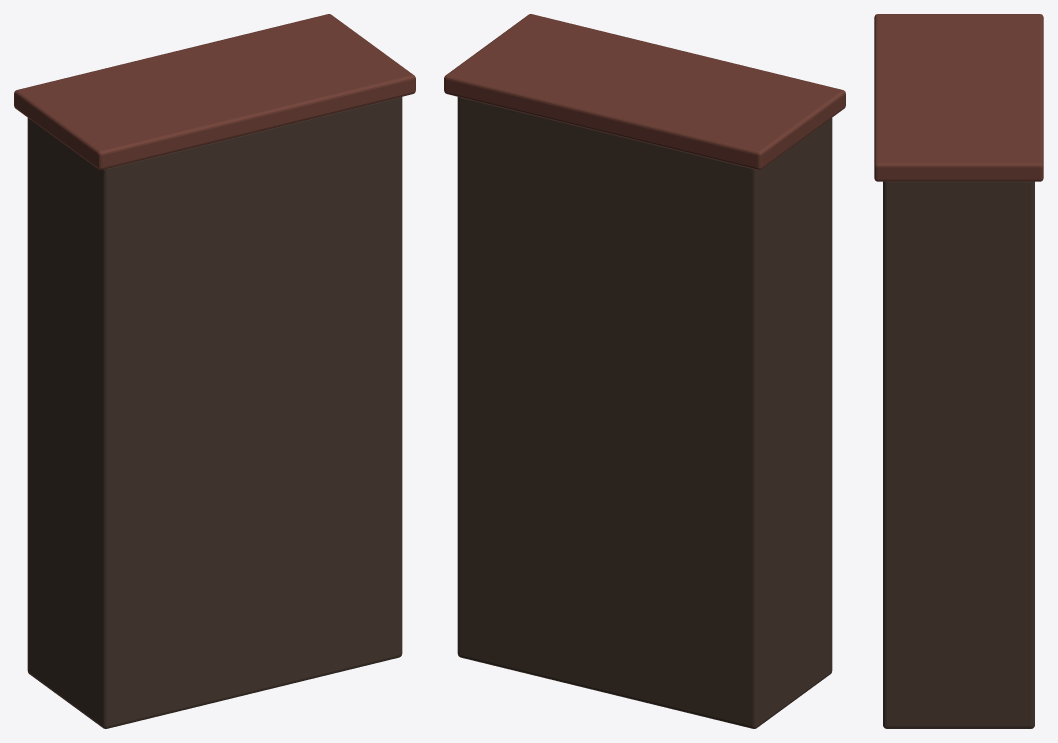
File: cabinet_specimen.glb
3 views of the same model, side by side, from view 1: azimuth 30°, elevation 25°; view 2: azimuth 150°, elevation 25°; view 3: azimuth 270°, elevation 25° (orthographic). The views are drawn at different scales.
Visible parts, largest first — view 1: GD_cabinet_specimen__m0, GD_cabinet_specimen__m1; view 2: GD_cabinet_specimen__m0, GD_cabinet_specimen__m1; view 3: GD_cabinet_specimen__m0, GD_cabinet_specimen__m1.
Part boxes in pixels (bbox=[...]): GD_cabinet_specimen__m0: bbox=[27, 97, 402, 728]; GD_cabinet_specimen__m1: bbox=[14, 14, 415, 169]; GD_cabinet_specimen__m0: bbox=[457, 97, 832, 728]; GD_cabinet_specimen__m1: bbox=[444, 14, 845, 169]; GD_cabinet_specimen__m0: bbox=[883, 181, 1034, 728]; GD_cabinet_specimen__m1: bbox=[874, 14, 1043, 181].
Size of the model in its own units: 1.06 by 1.86 by 0.5.
